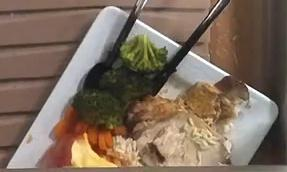broccoli: (72, 35, 166, 129)
carrots: (37, 107, 121, 168)
pork: (136, 111, 228, 166)
unknown: (126, 76, 248, 134)
